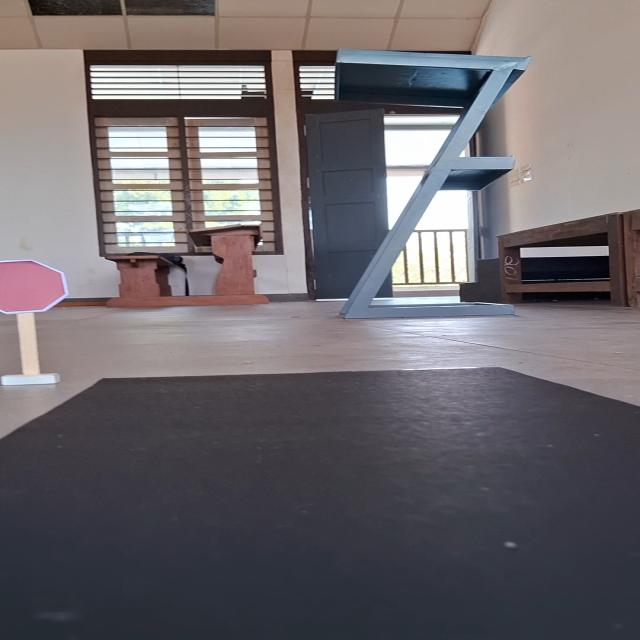Stop: (0, 255, 70, 317)
